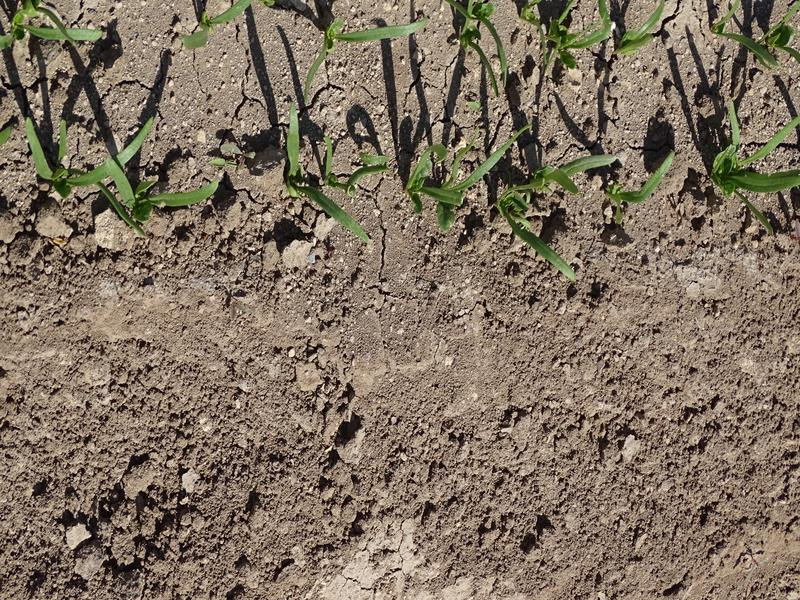Espinaca: (318, 2, 797, 70), (404, 132, 615, 277), (21, 115, 223, 222), (273, 111, 388, 246), (706, 103, 800, 200), (1, 7, 107, 50), (171, 1, 262, 48), (614, 151, 683, 208)
